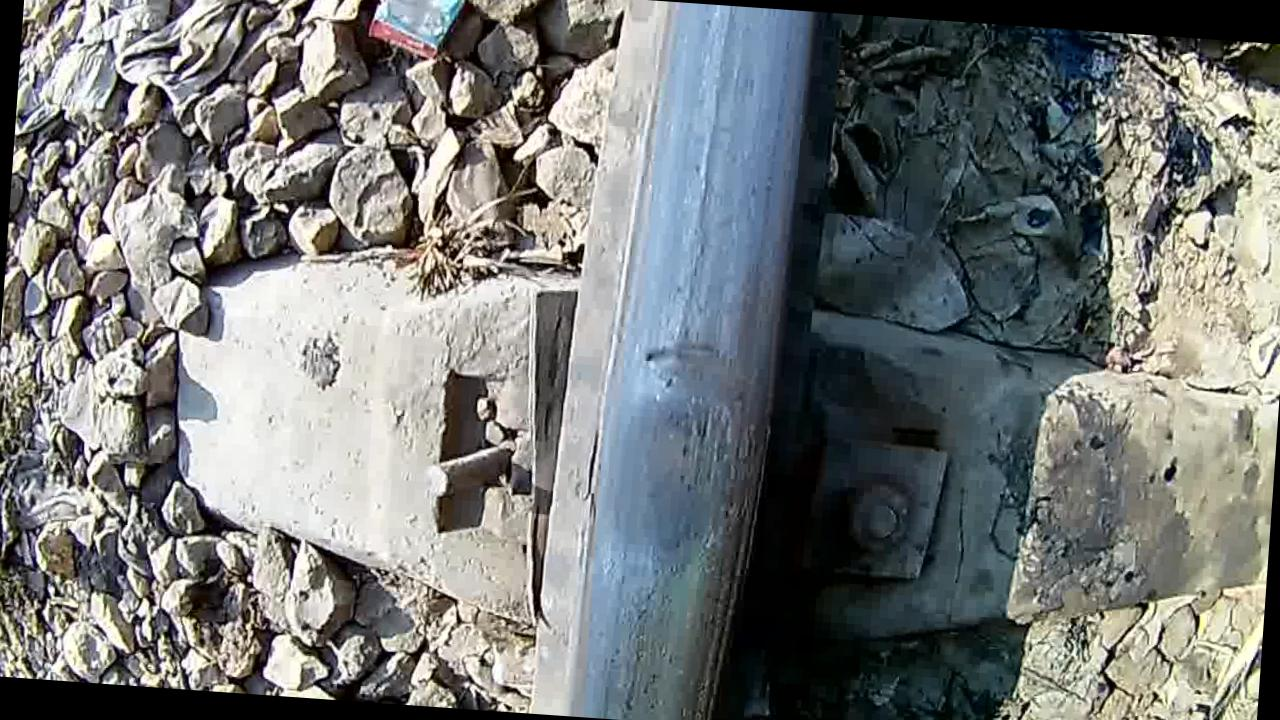bolt_missing: (534, 242, 802, 692)
